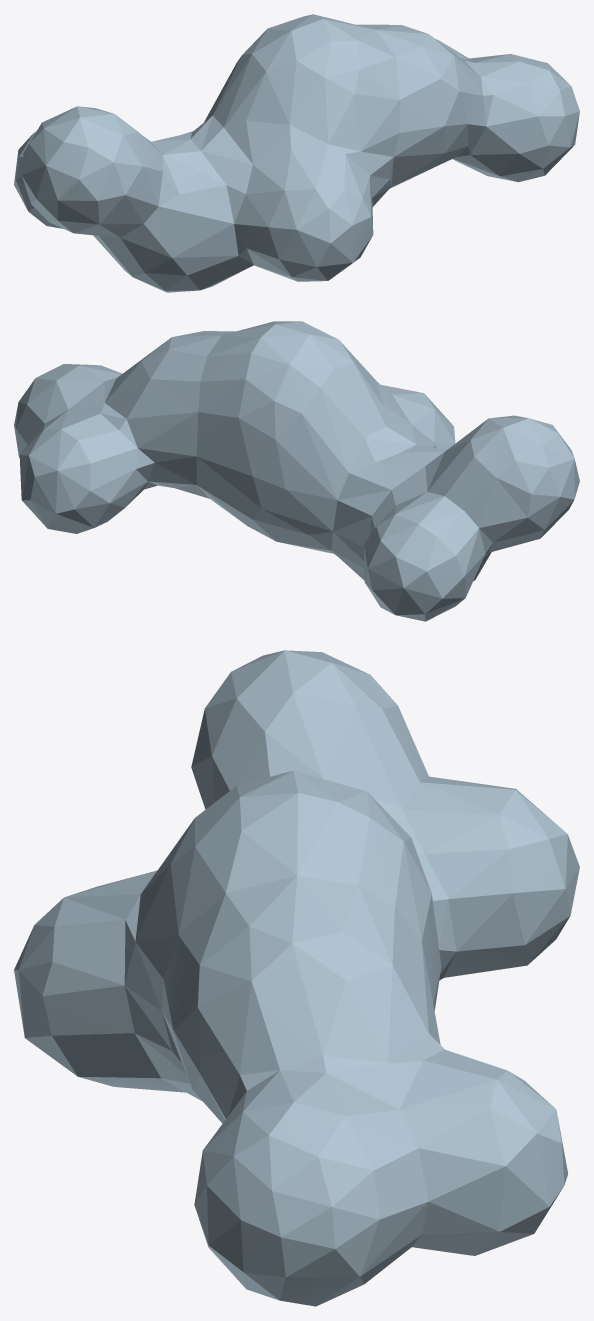
The model's file is medium_cloud_5.fbx.
The picture shows the model from 3 angles, top to bottom: view 1: azimuth 30°, elevation 25°; view 2: azimuth 150°, elevation 25°; view 3: azimuth 270°, elevation 25°; orthographic projection. The views are drawn at different scales.
Parts seen in each view (by area): view 1: cloud_55; view 2: cloud_55; view 3: cloud_55.
Boxes of the visible parts, x1,y1,x2,y2 form: cloud_55: [14, 14, 579, 292]; cloud_55: [14, 321, 579, 621]; cloud_55: [14, 650, 579, 1306].
Size of the model in its own units: 547 by 225 by 296.
